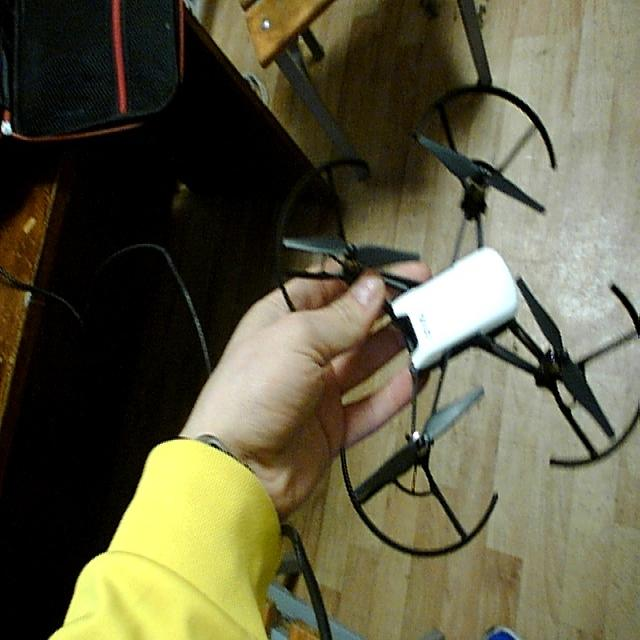drone: (270, 75, 640, 564)
